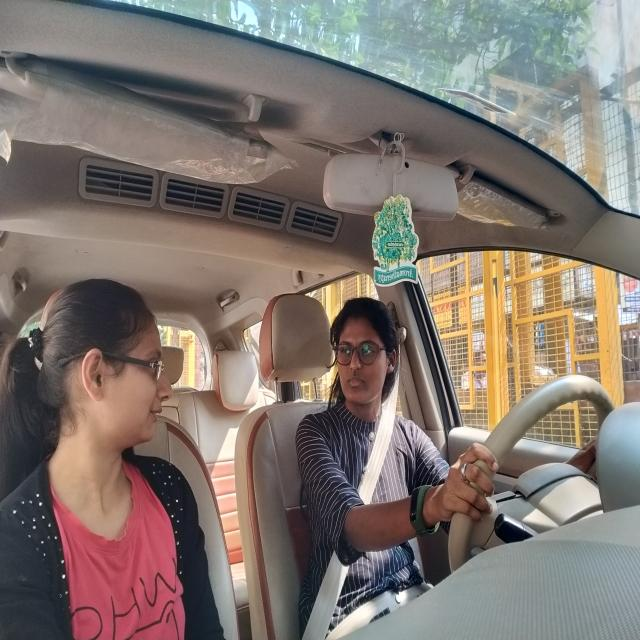LeftRight: (331, 296, 398, 410)
person: (47, 277, 176, 463)
